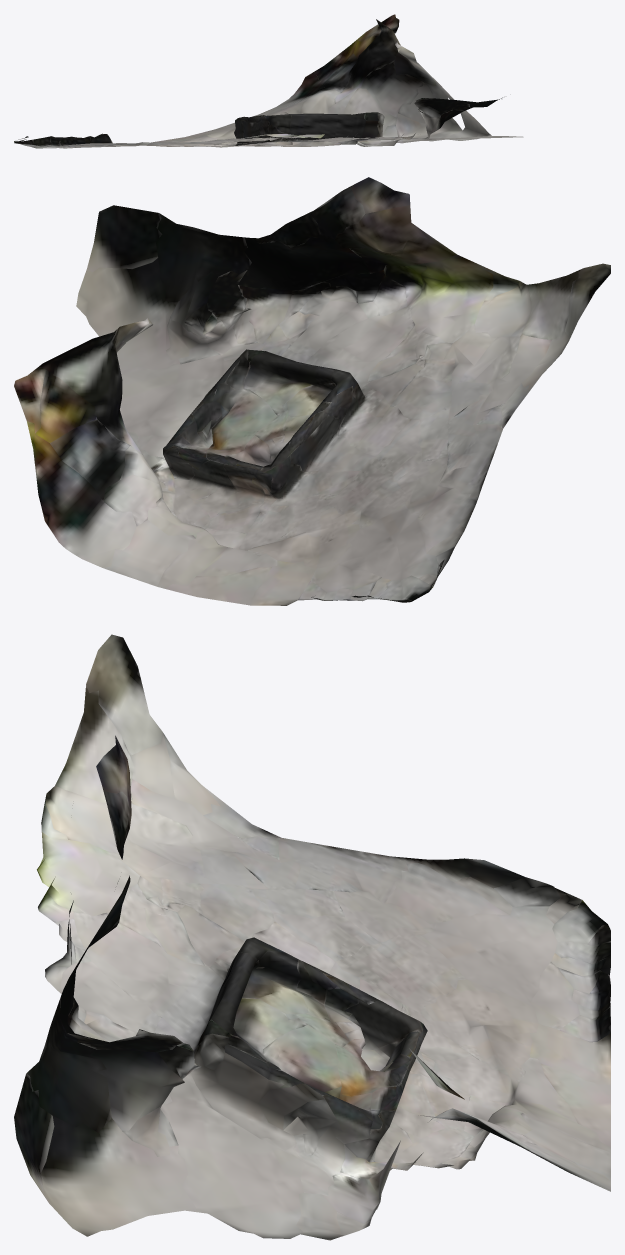
The model's file is hall.glb.
3 views of the same model, one above another, from view 1: azimuth 30°, elevation 25°; view 2: azimuth 150°, elevation 25°; view 3: azimuth 270°, elevation 25° (orthographic). The views are drawn at different scales.
Size of the model in its own units: 2.68 by 1.28 by 1.86.
1 material, 1 textured.
